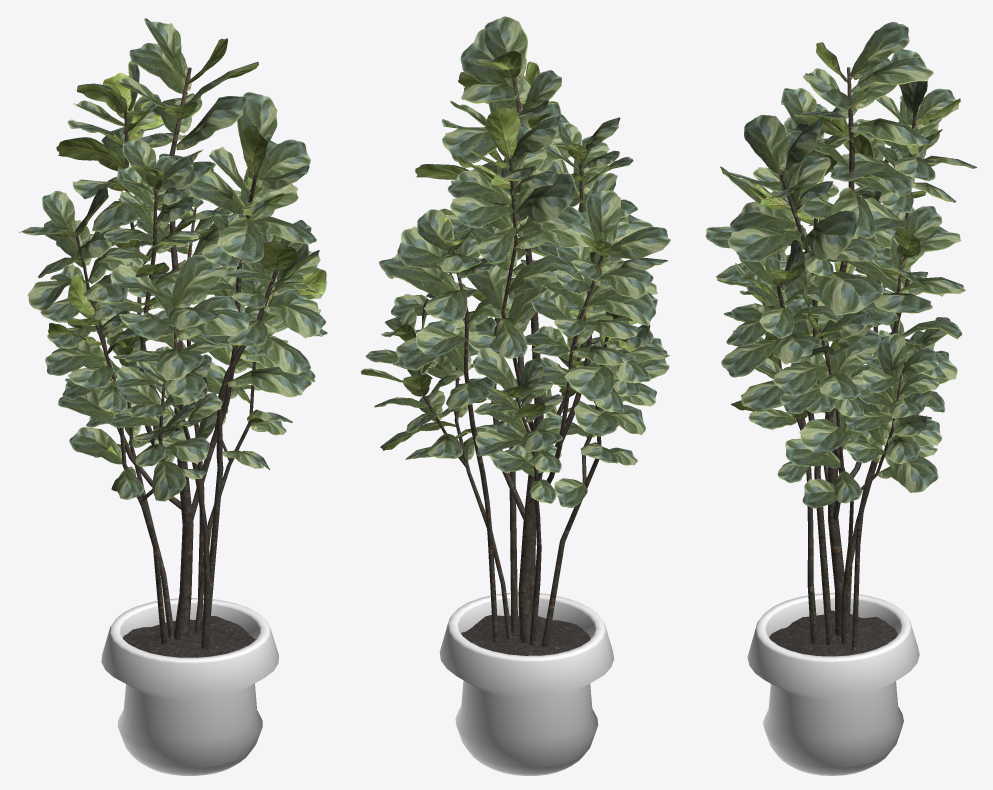
The model's file is Plant2.fbx.
3 renders of one model, left to right at view 1: azimuth 30°, elevation 25°; view 2: azimuth 150°, elevation 25°; view 3: azimuth 270°, elevation 25°, orthographic.
Visible parts, largest first — view 1: Plant2; view 2: Plant2; view 3: Plant2.
Boxes of the visible parts, x1=… form: Plant2: x1=18, y1=18, x2=327, y2=775; Plant2: x1=361, y1=16, x2=670, y2=775; Plant2: x1=705, y1=21, x2=976, y2=775.
Size of the model in its own units: 94 by 225 by 76.6.
